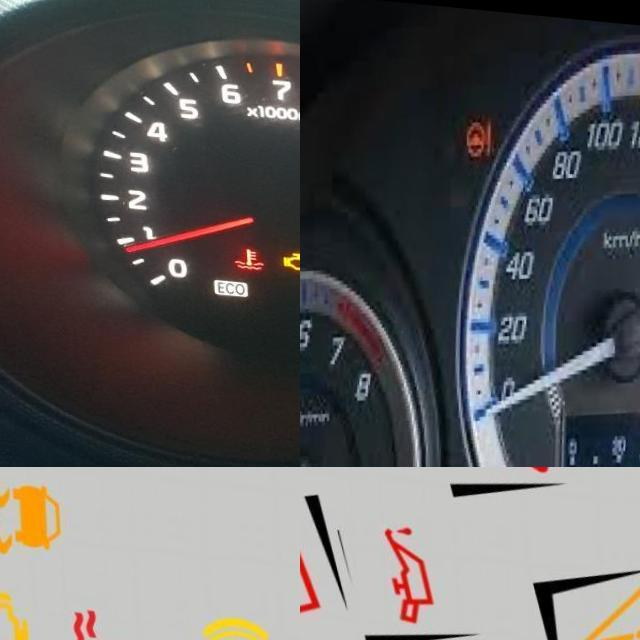Electronic Power Steering: (458, 113, 493, 159)
Engine cooling system: (229, 240, 261, 264)
